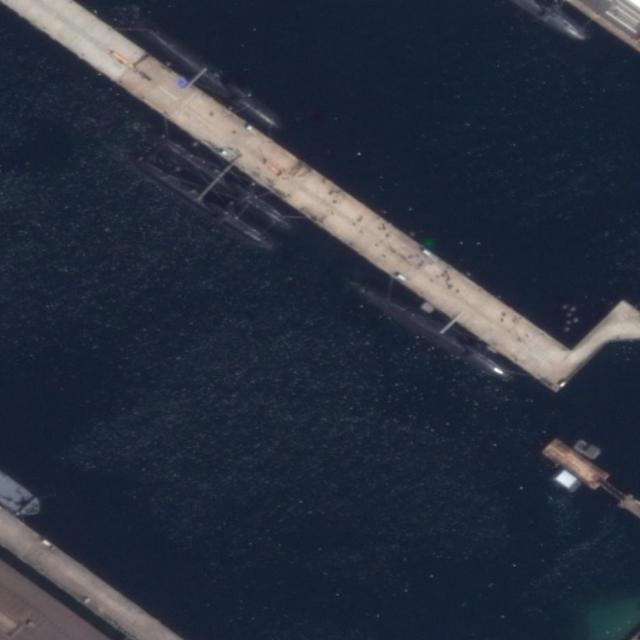Submarine: (356, 281, 514, 384), (142, 25, 280, 133), (153, 130, 295, 232), (133, 151, 276, 252)
